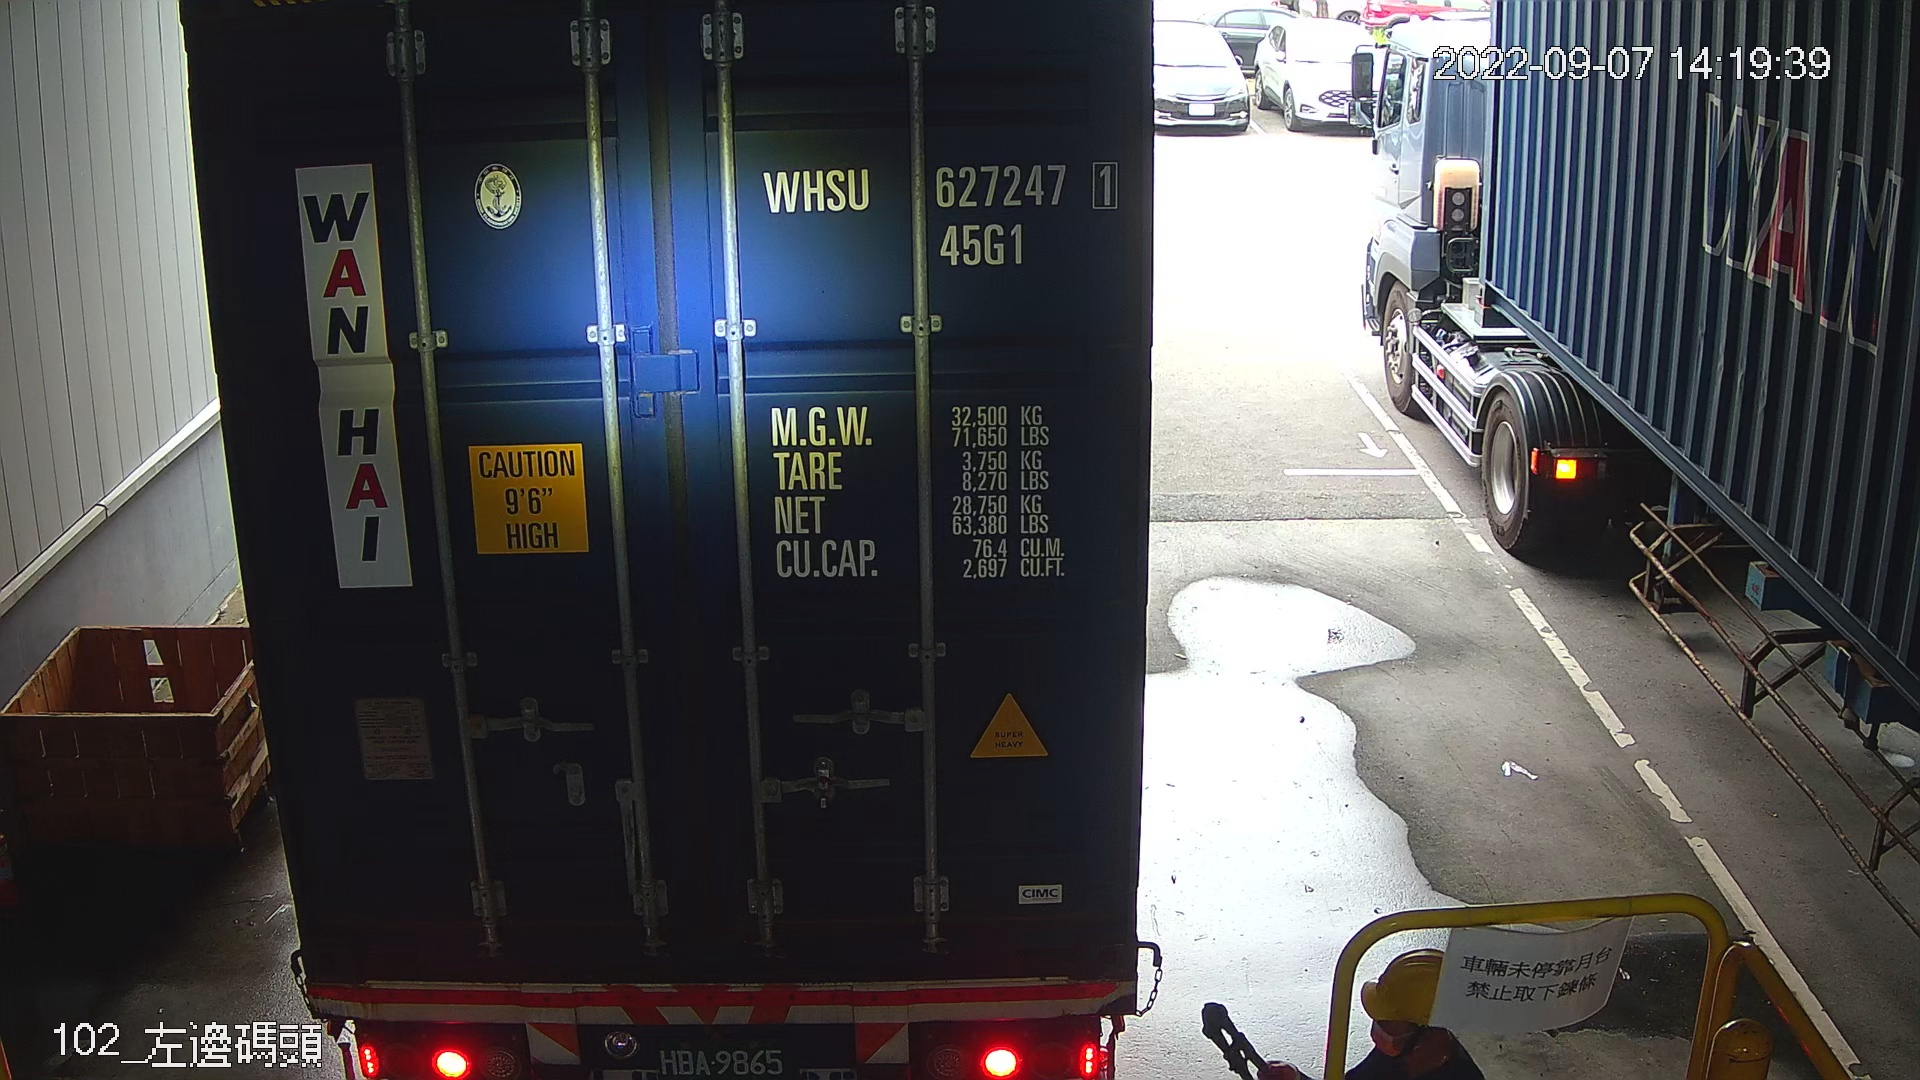container: (753, 156, 1129, 274)
